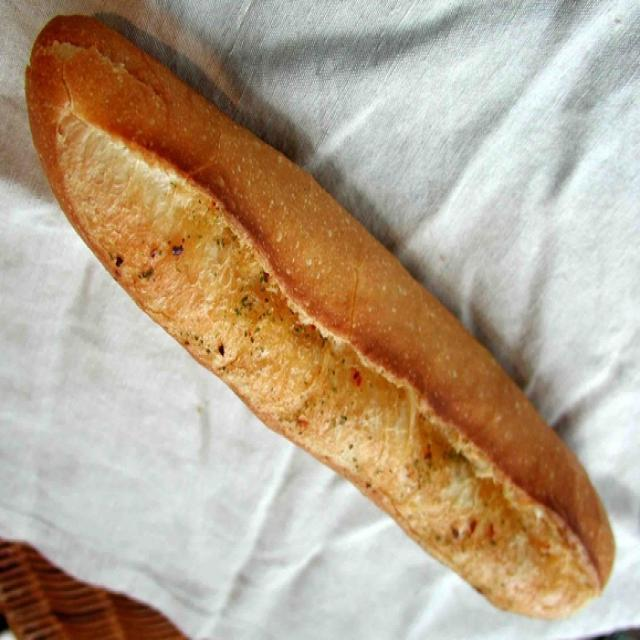Bread: (22, 9, 628, 631)
